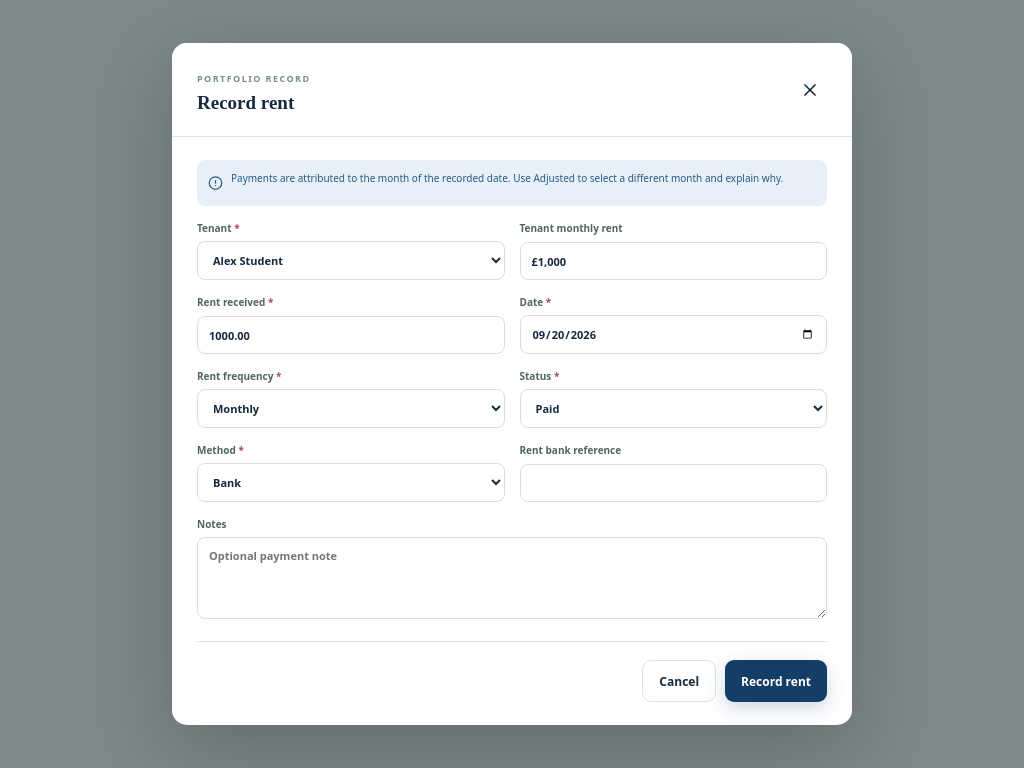
Scenario: record rent form › defaults a final Paid entry to the outstanding balance after instalments
Type "2026-08-16" into the date field labelled "Date *" at x=673, y=334, box [520,315,827,354]
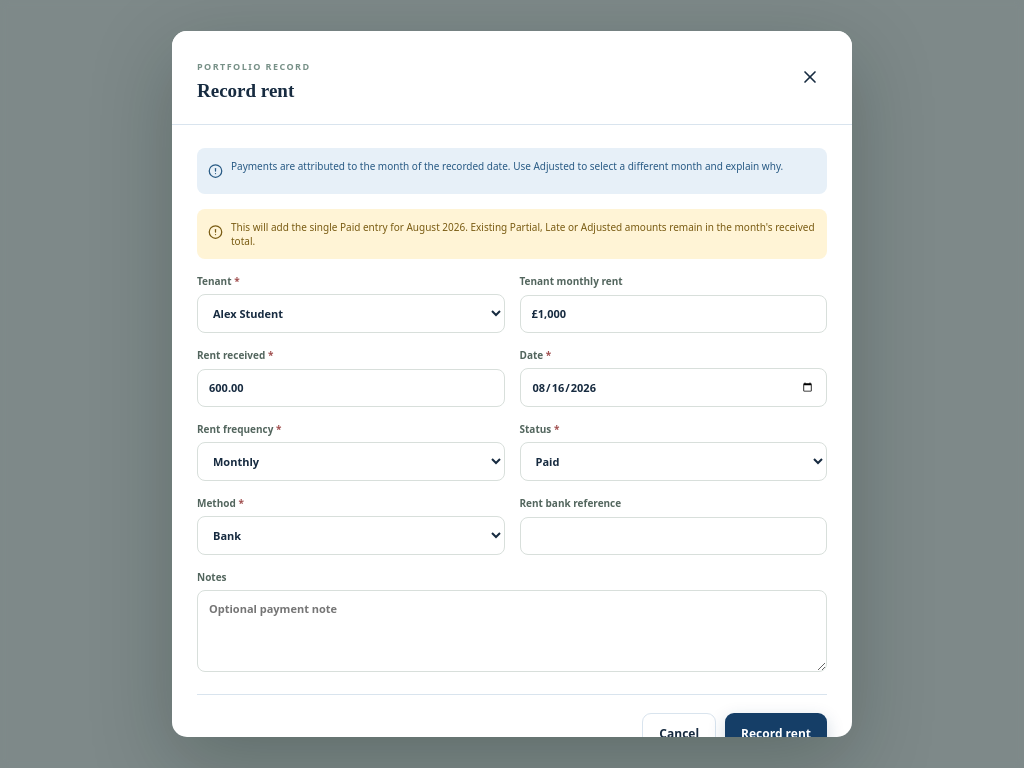
Now the number field labelled "Rent received *" holds "600", box [197,369,504,407]
